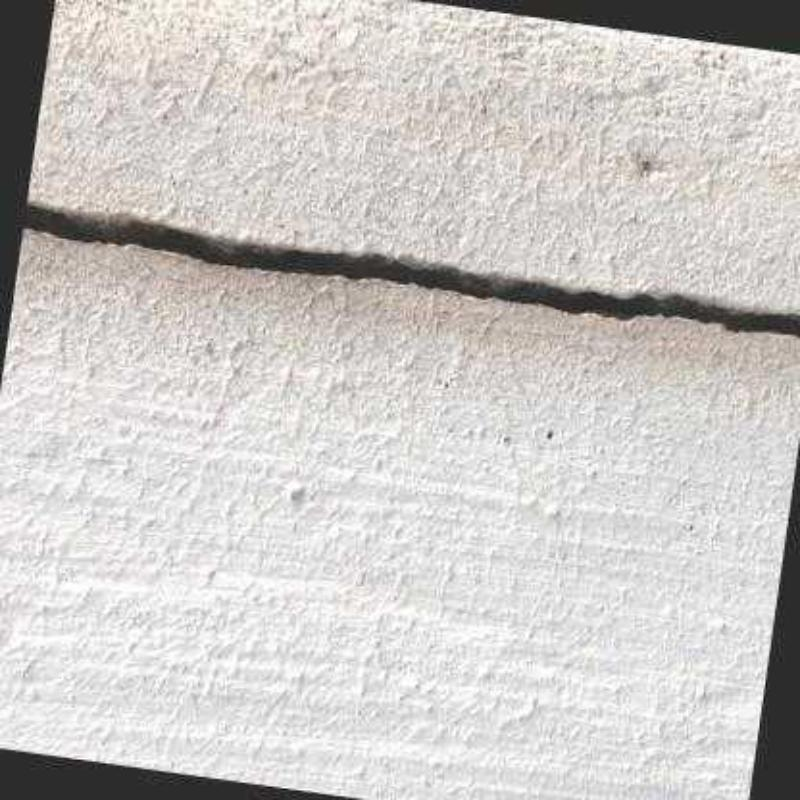pothole: (21, 200, 800, 339)
